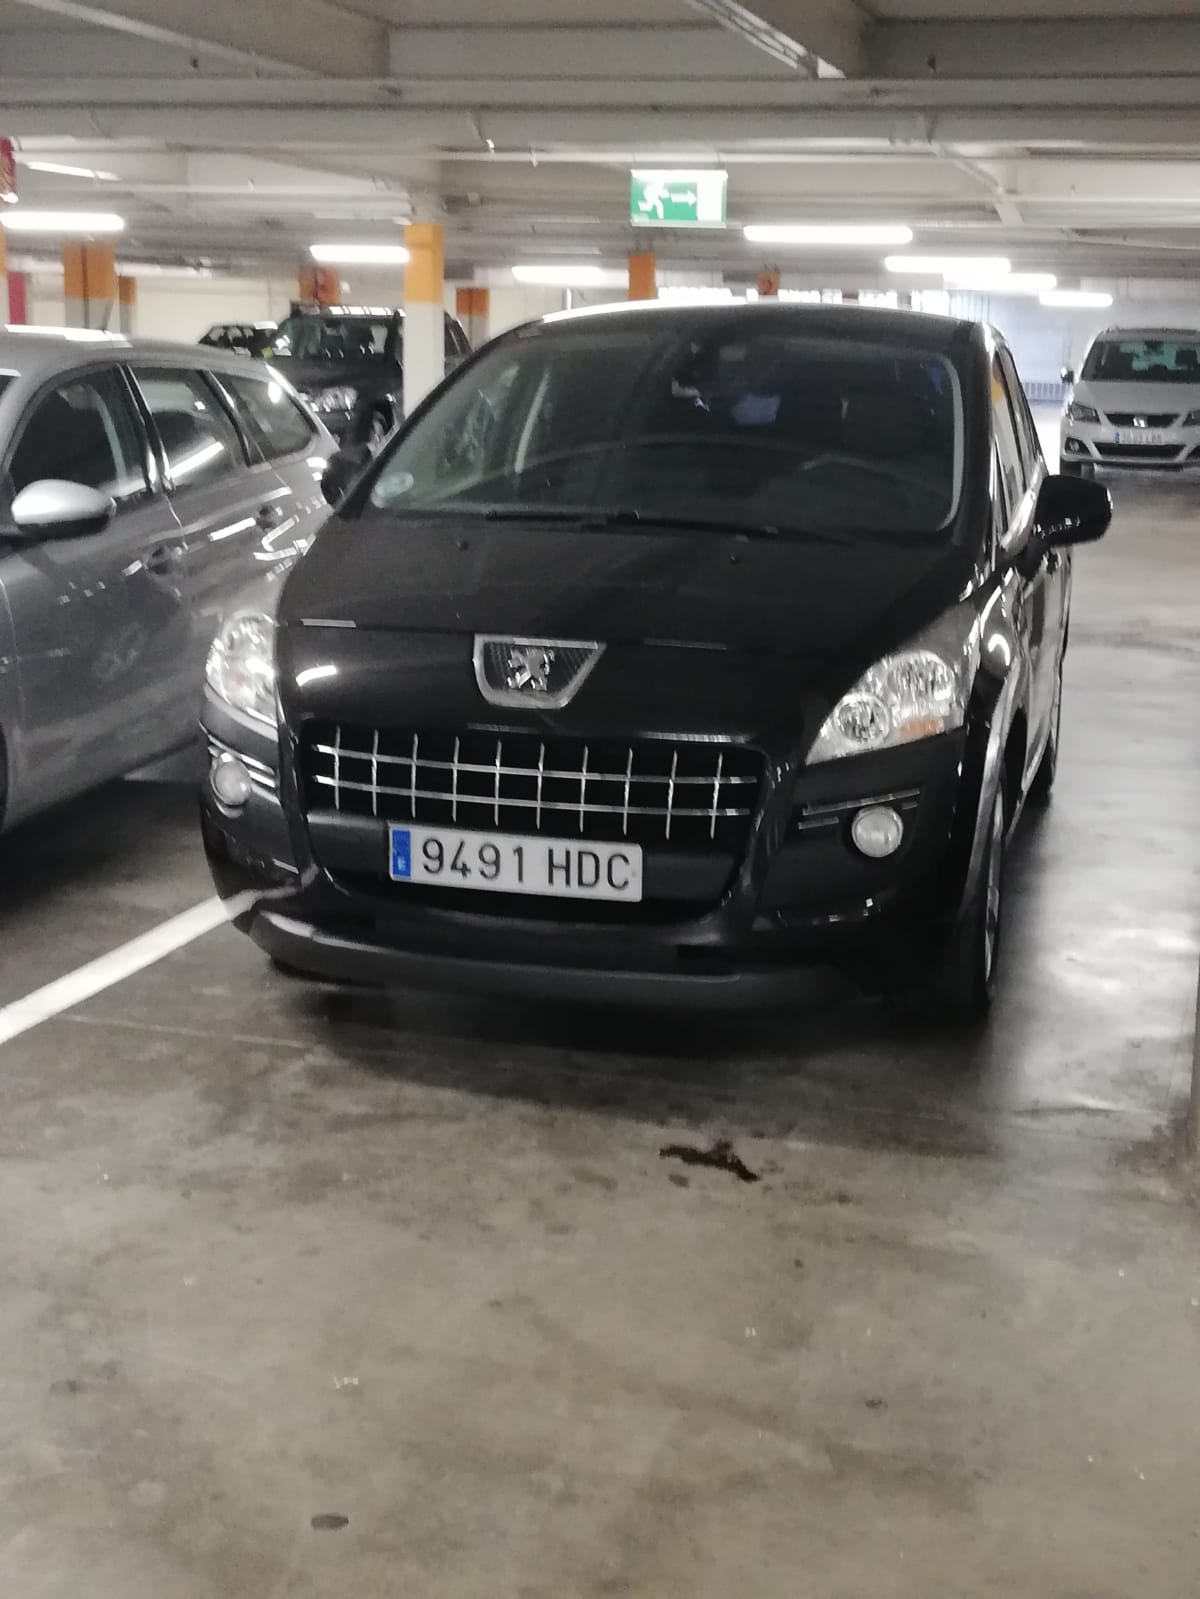Car: (195, 304, 1102, 1001)
Plate: (389, 820, 645, 881)
